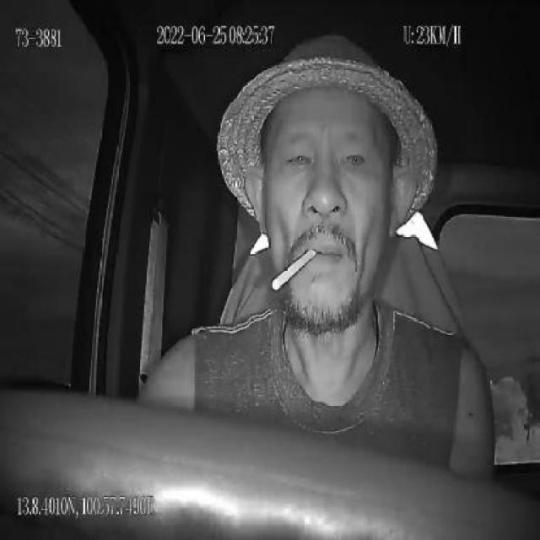smoking: (273, 246, 318, 292)
